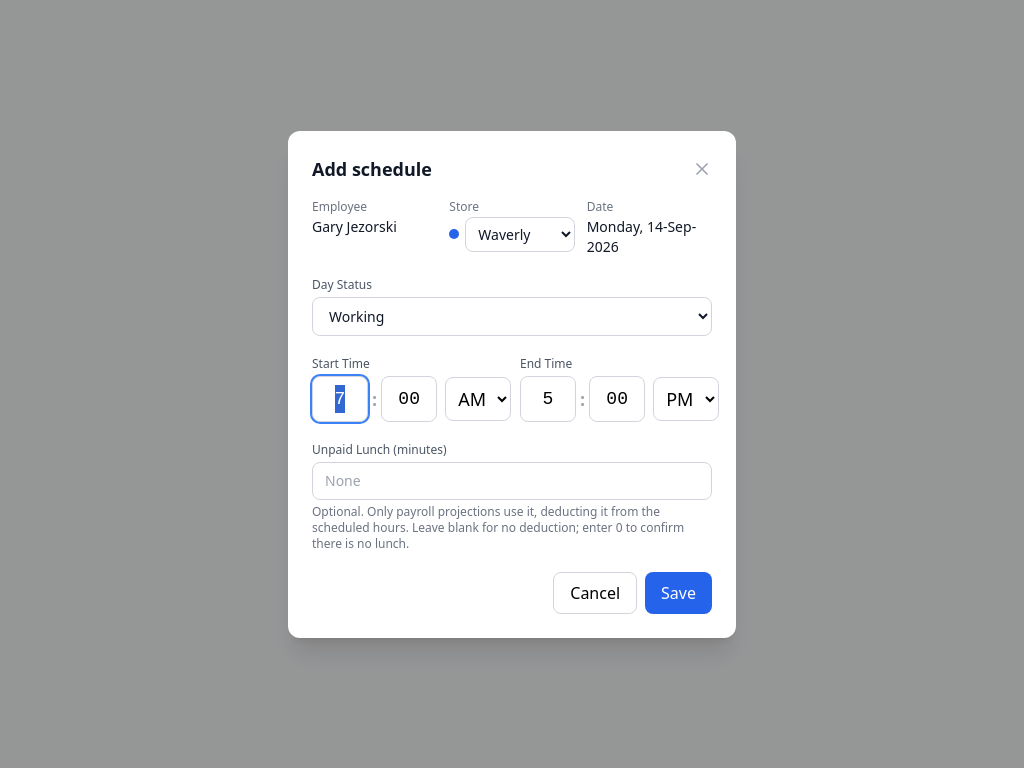
Scenario: ScheduleCellModal — day status selector › surfaces a server rejection inline and keeps the modal open
Step 1. Select "Vacation" in the dropdown labelled "Day Status" → point(512, 316), box [312,296,712,336]
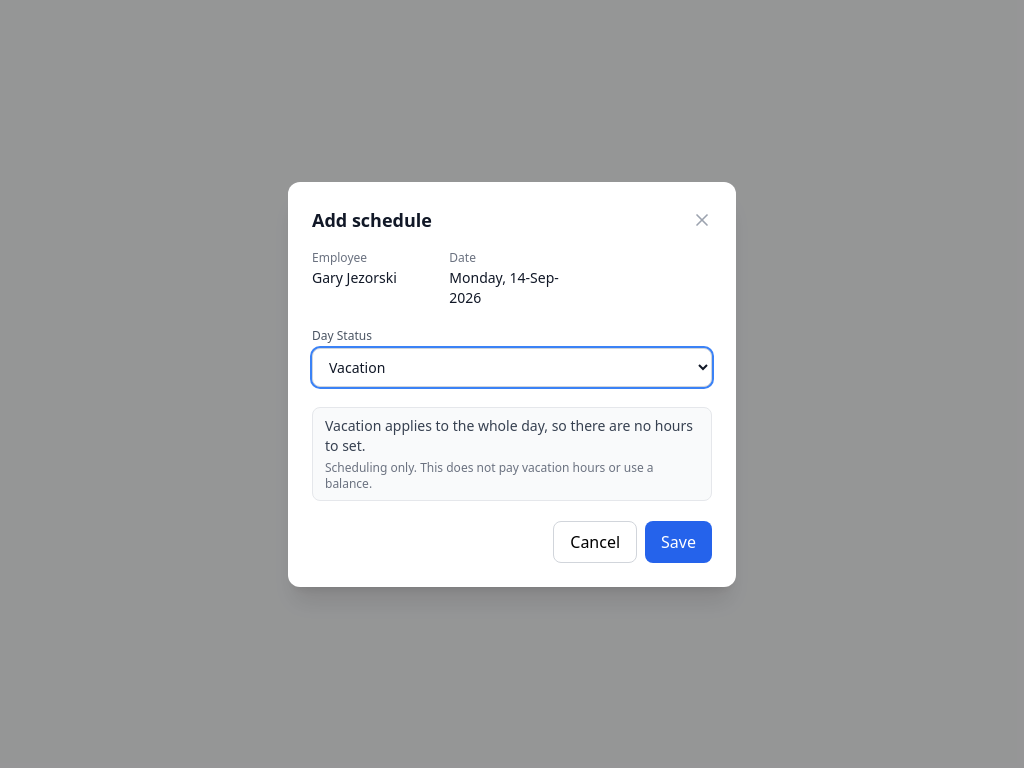
Step 2. Click the button "Save" → point(679, 542), box [645,520,712,562]
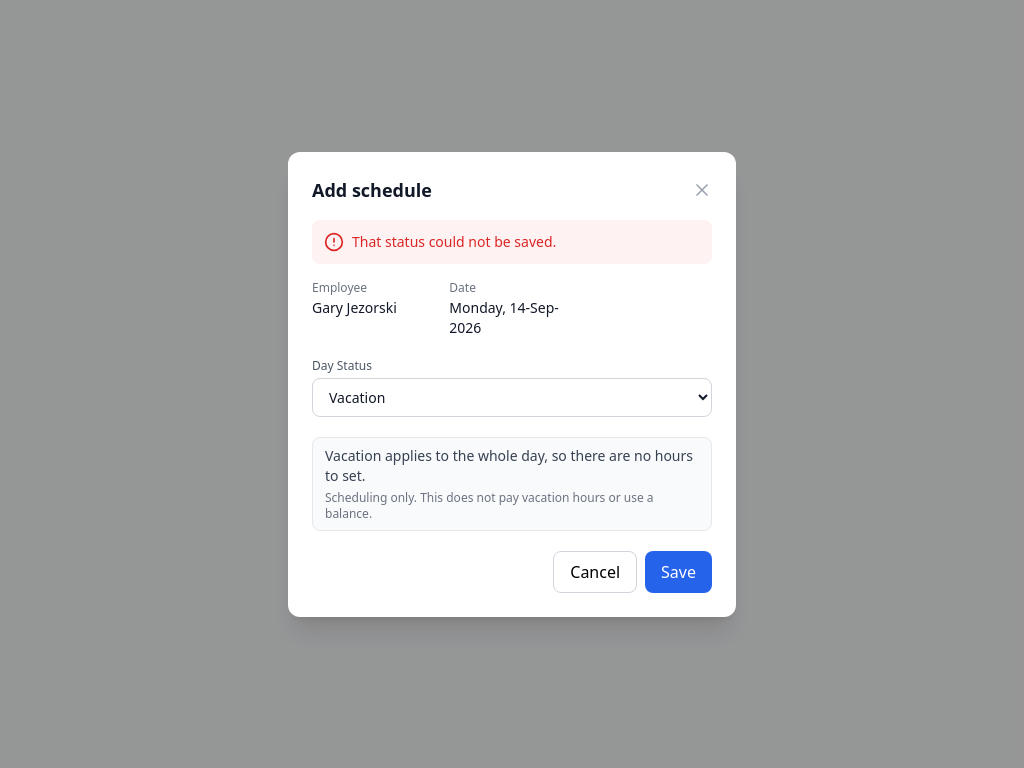
Now the text "That status could not be saved." is shown, box [352,232,556,252]
